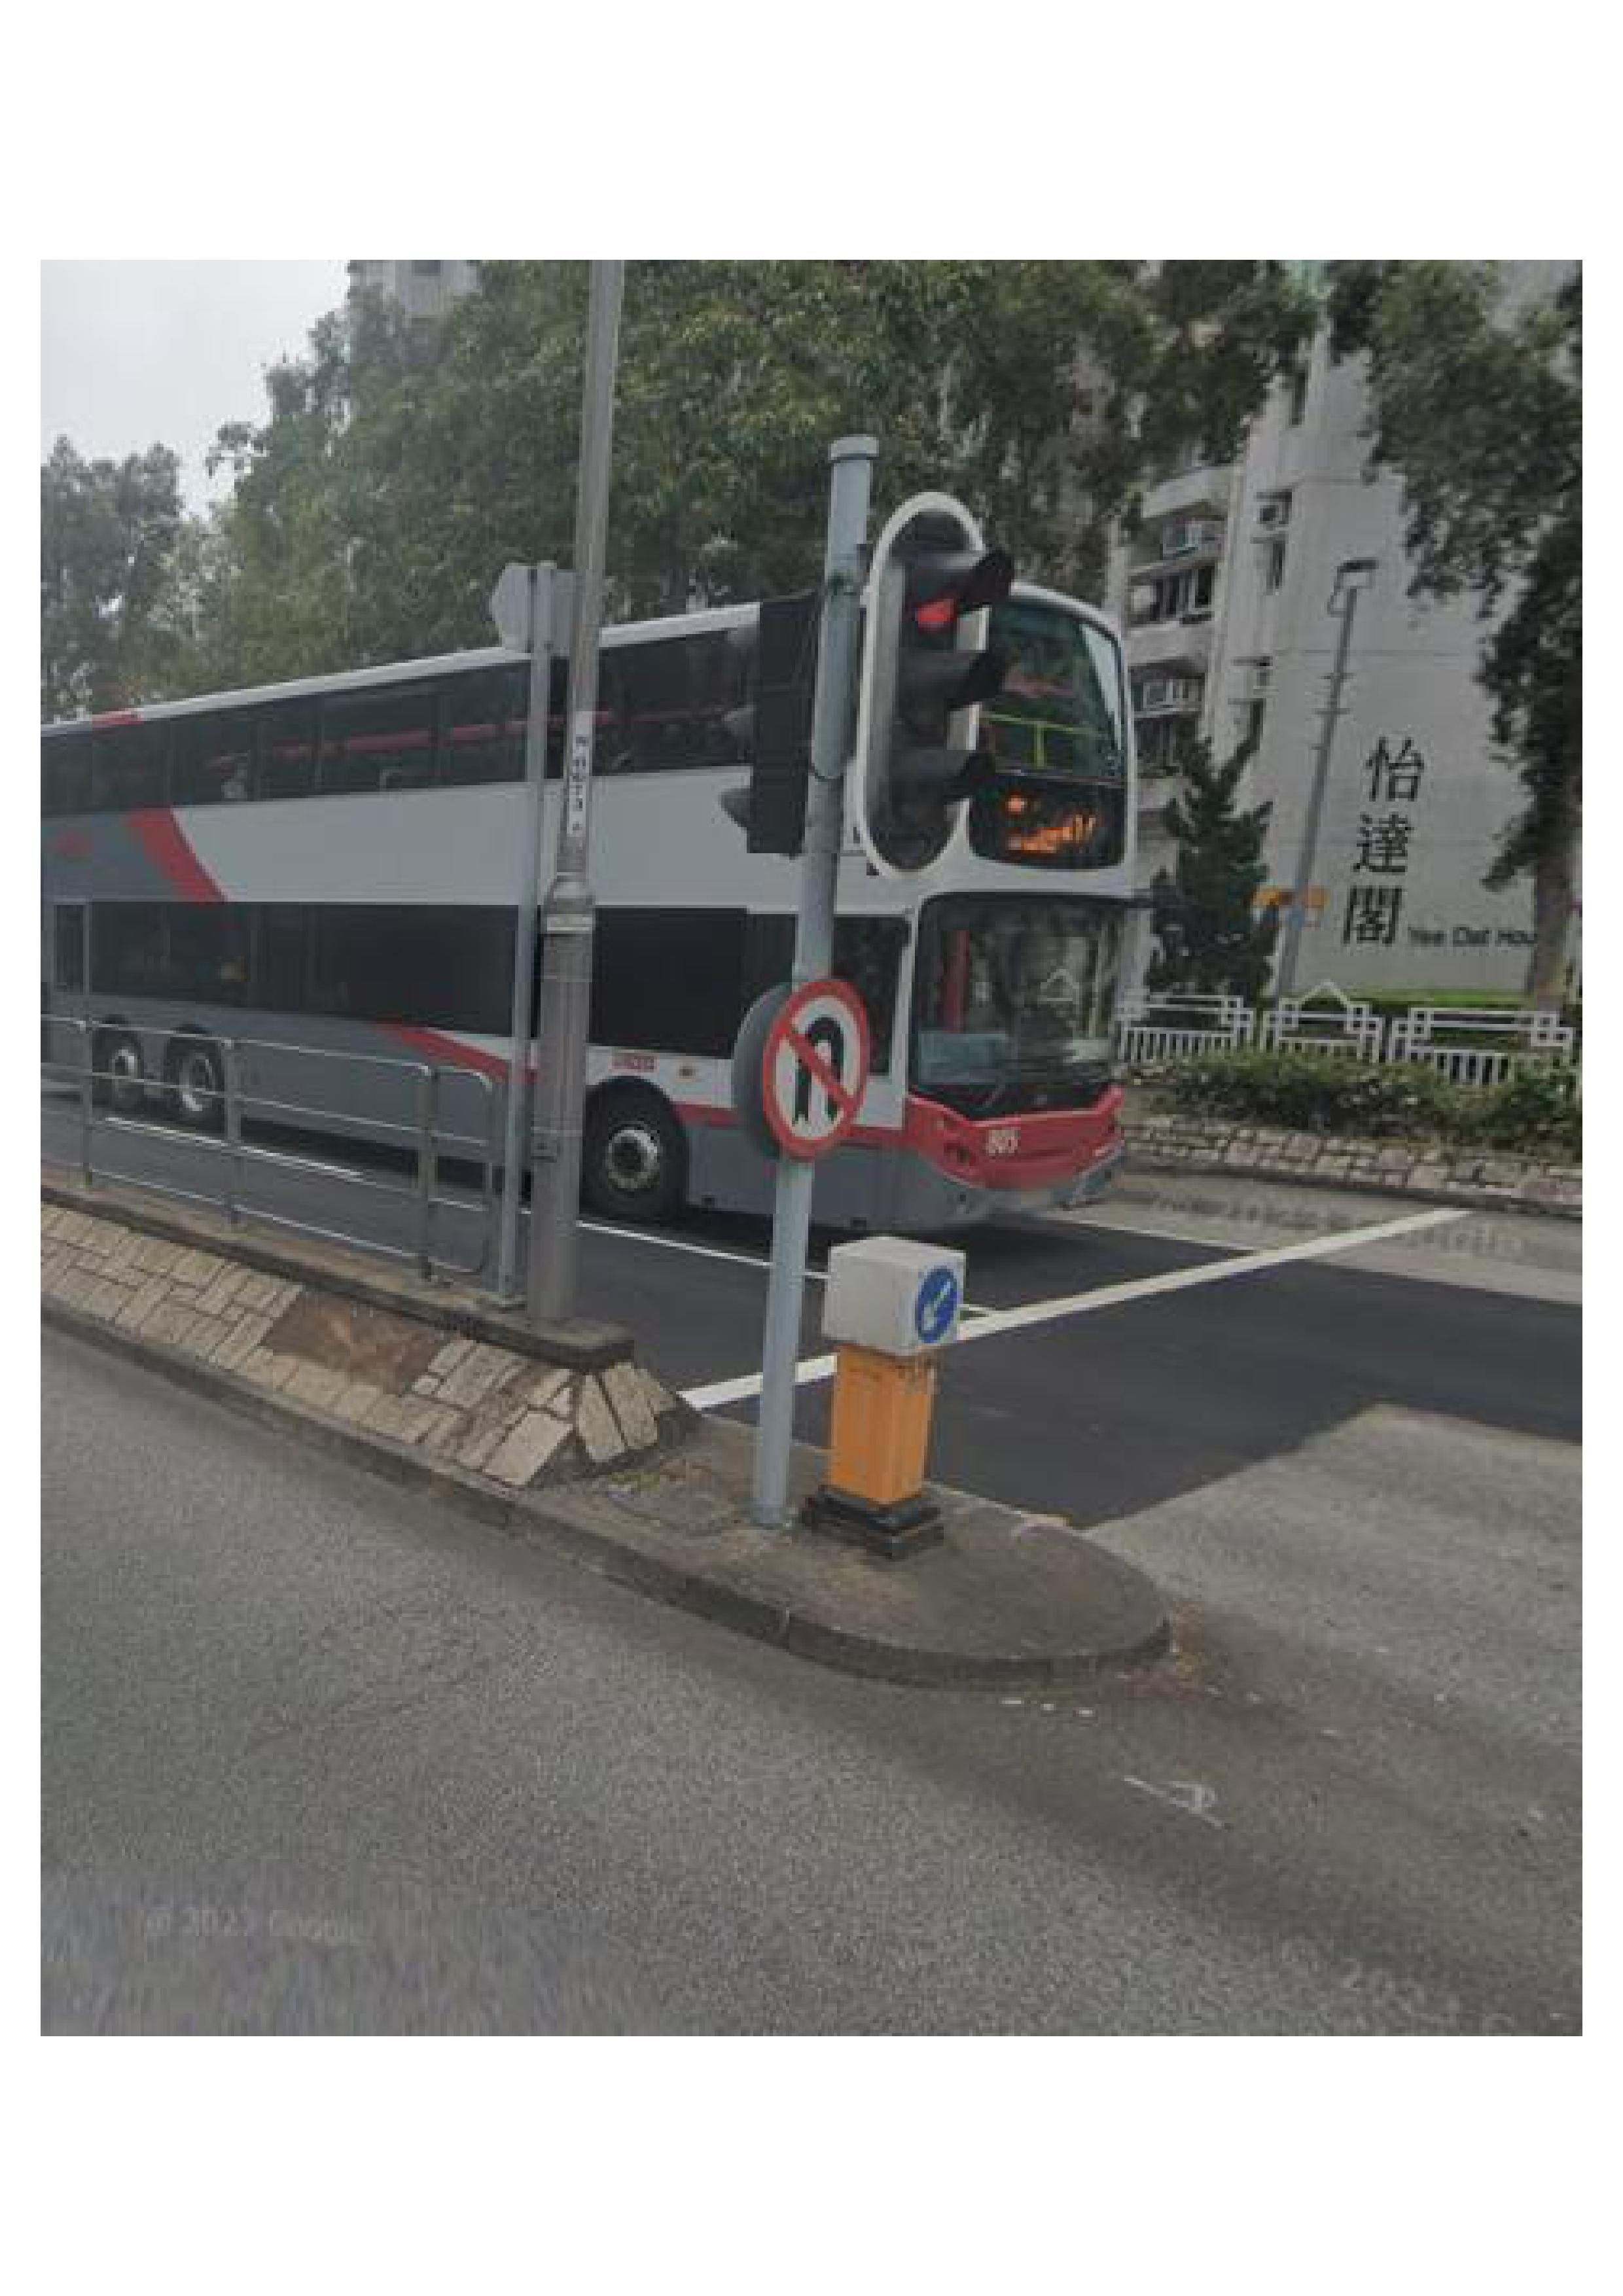No Uturn: (752, 972, 878, 1162)
